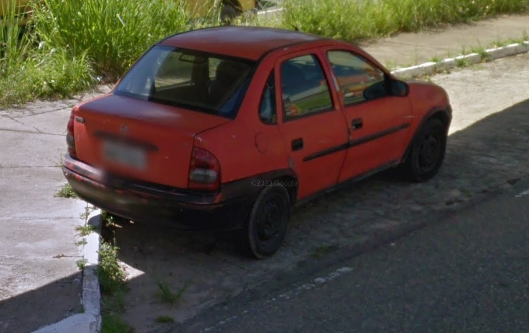car: (59, 22, 453, 261)
